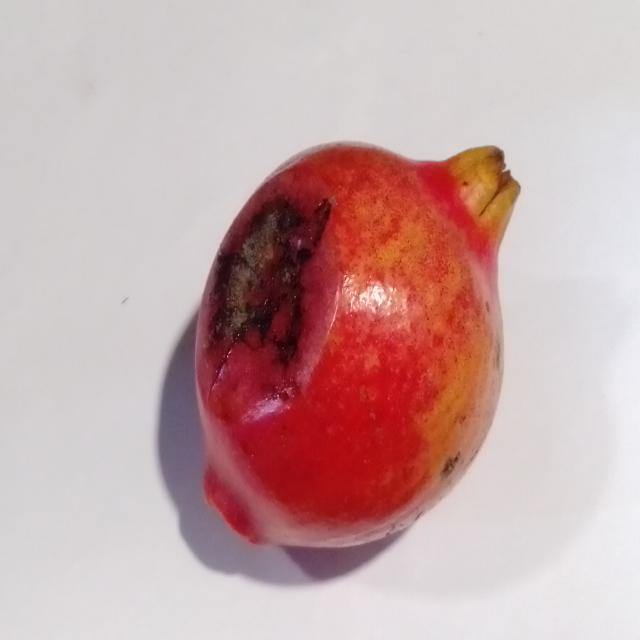Rotten: (188, 137, 523, 556)
